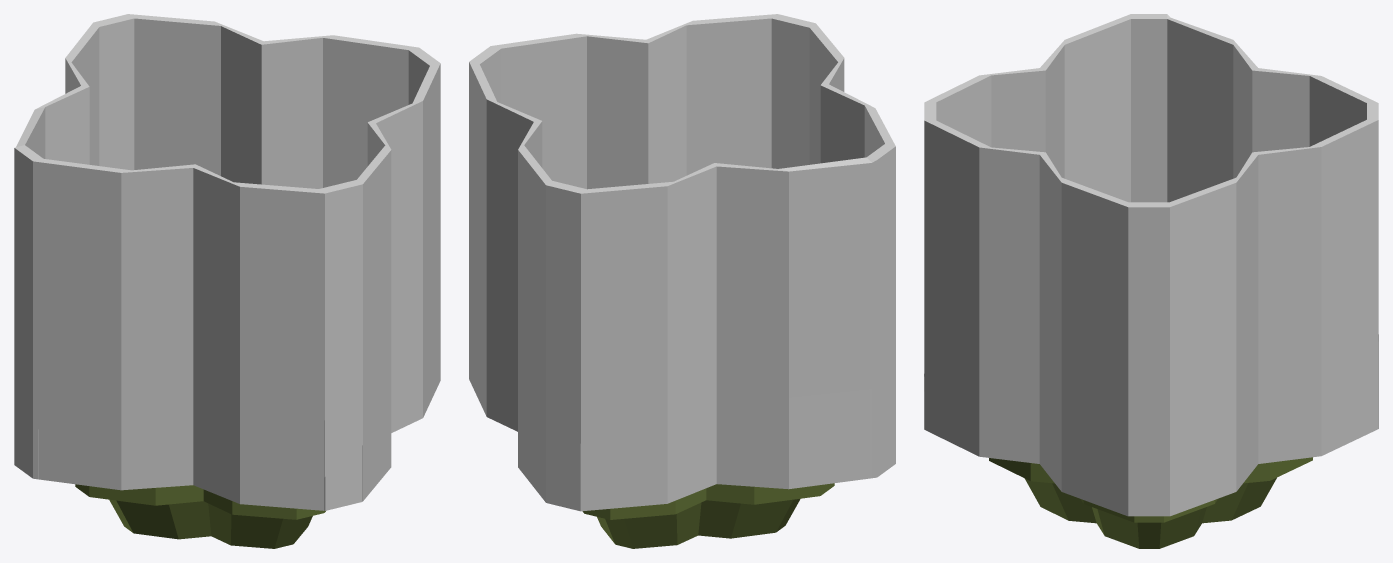
Rendered from flowerisland_sav2.fbx.
3 views of the same model, side by side, from view 1: azimuth 30°, elevation 25°; view 2: azimuth 150°, elevation 25°; view 3: azimuth 270°, elevation 25° (orthographic). The views are drawn at different scales.
Parts seen in each view (by area): view 1: z_barrier, y_island; view 2: z_barrier, y_island; view 3: z_barrier, y_island.
Boxes of the visible parts, x1=… form: z_barrier: x1=14, y1=14, x2=440, y2=510; y_island: x1=75, y1=484, x2=325, y2=548; z_barrier: x1=469, y1=14, x2=895, y2=511; y_island: x1=582, y1=483, x2=834, y2=548; z_barrier: x1=924, y1=14, x2=1378, y2=516; y_island: x1=989, y1=457, x2=1312, y2=548.
Bounding box in the file's own units: 7654 × 7235 × 7617.
